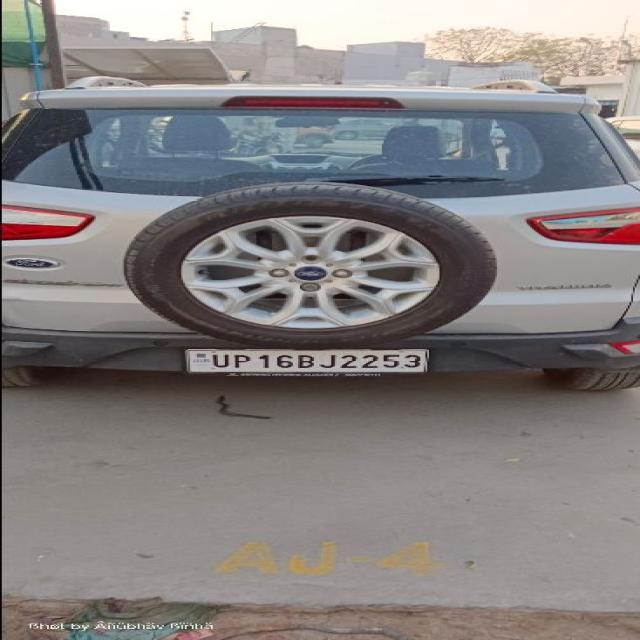license_plate: (181, 348, 429, 374)
